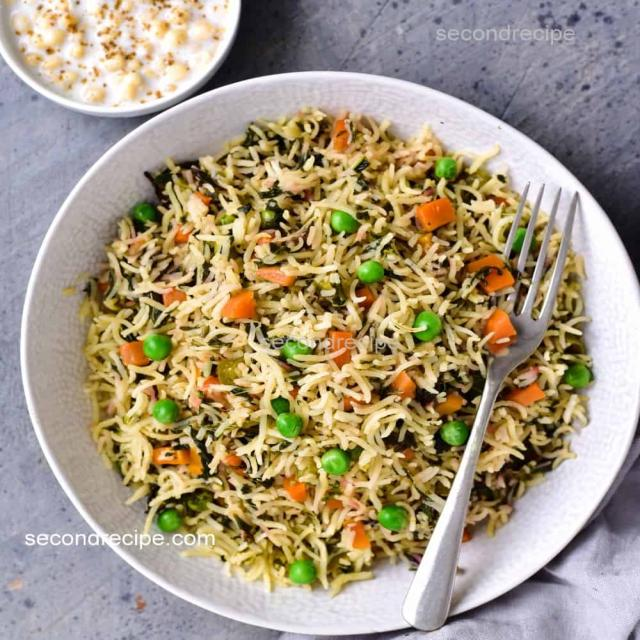veg palav: (64, 91, 604, 604)
